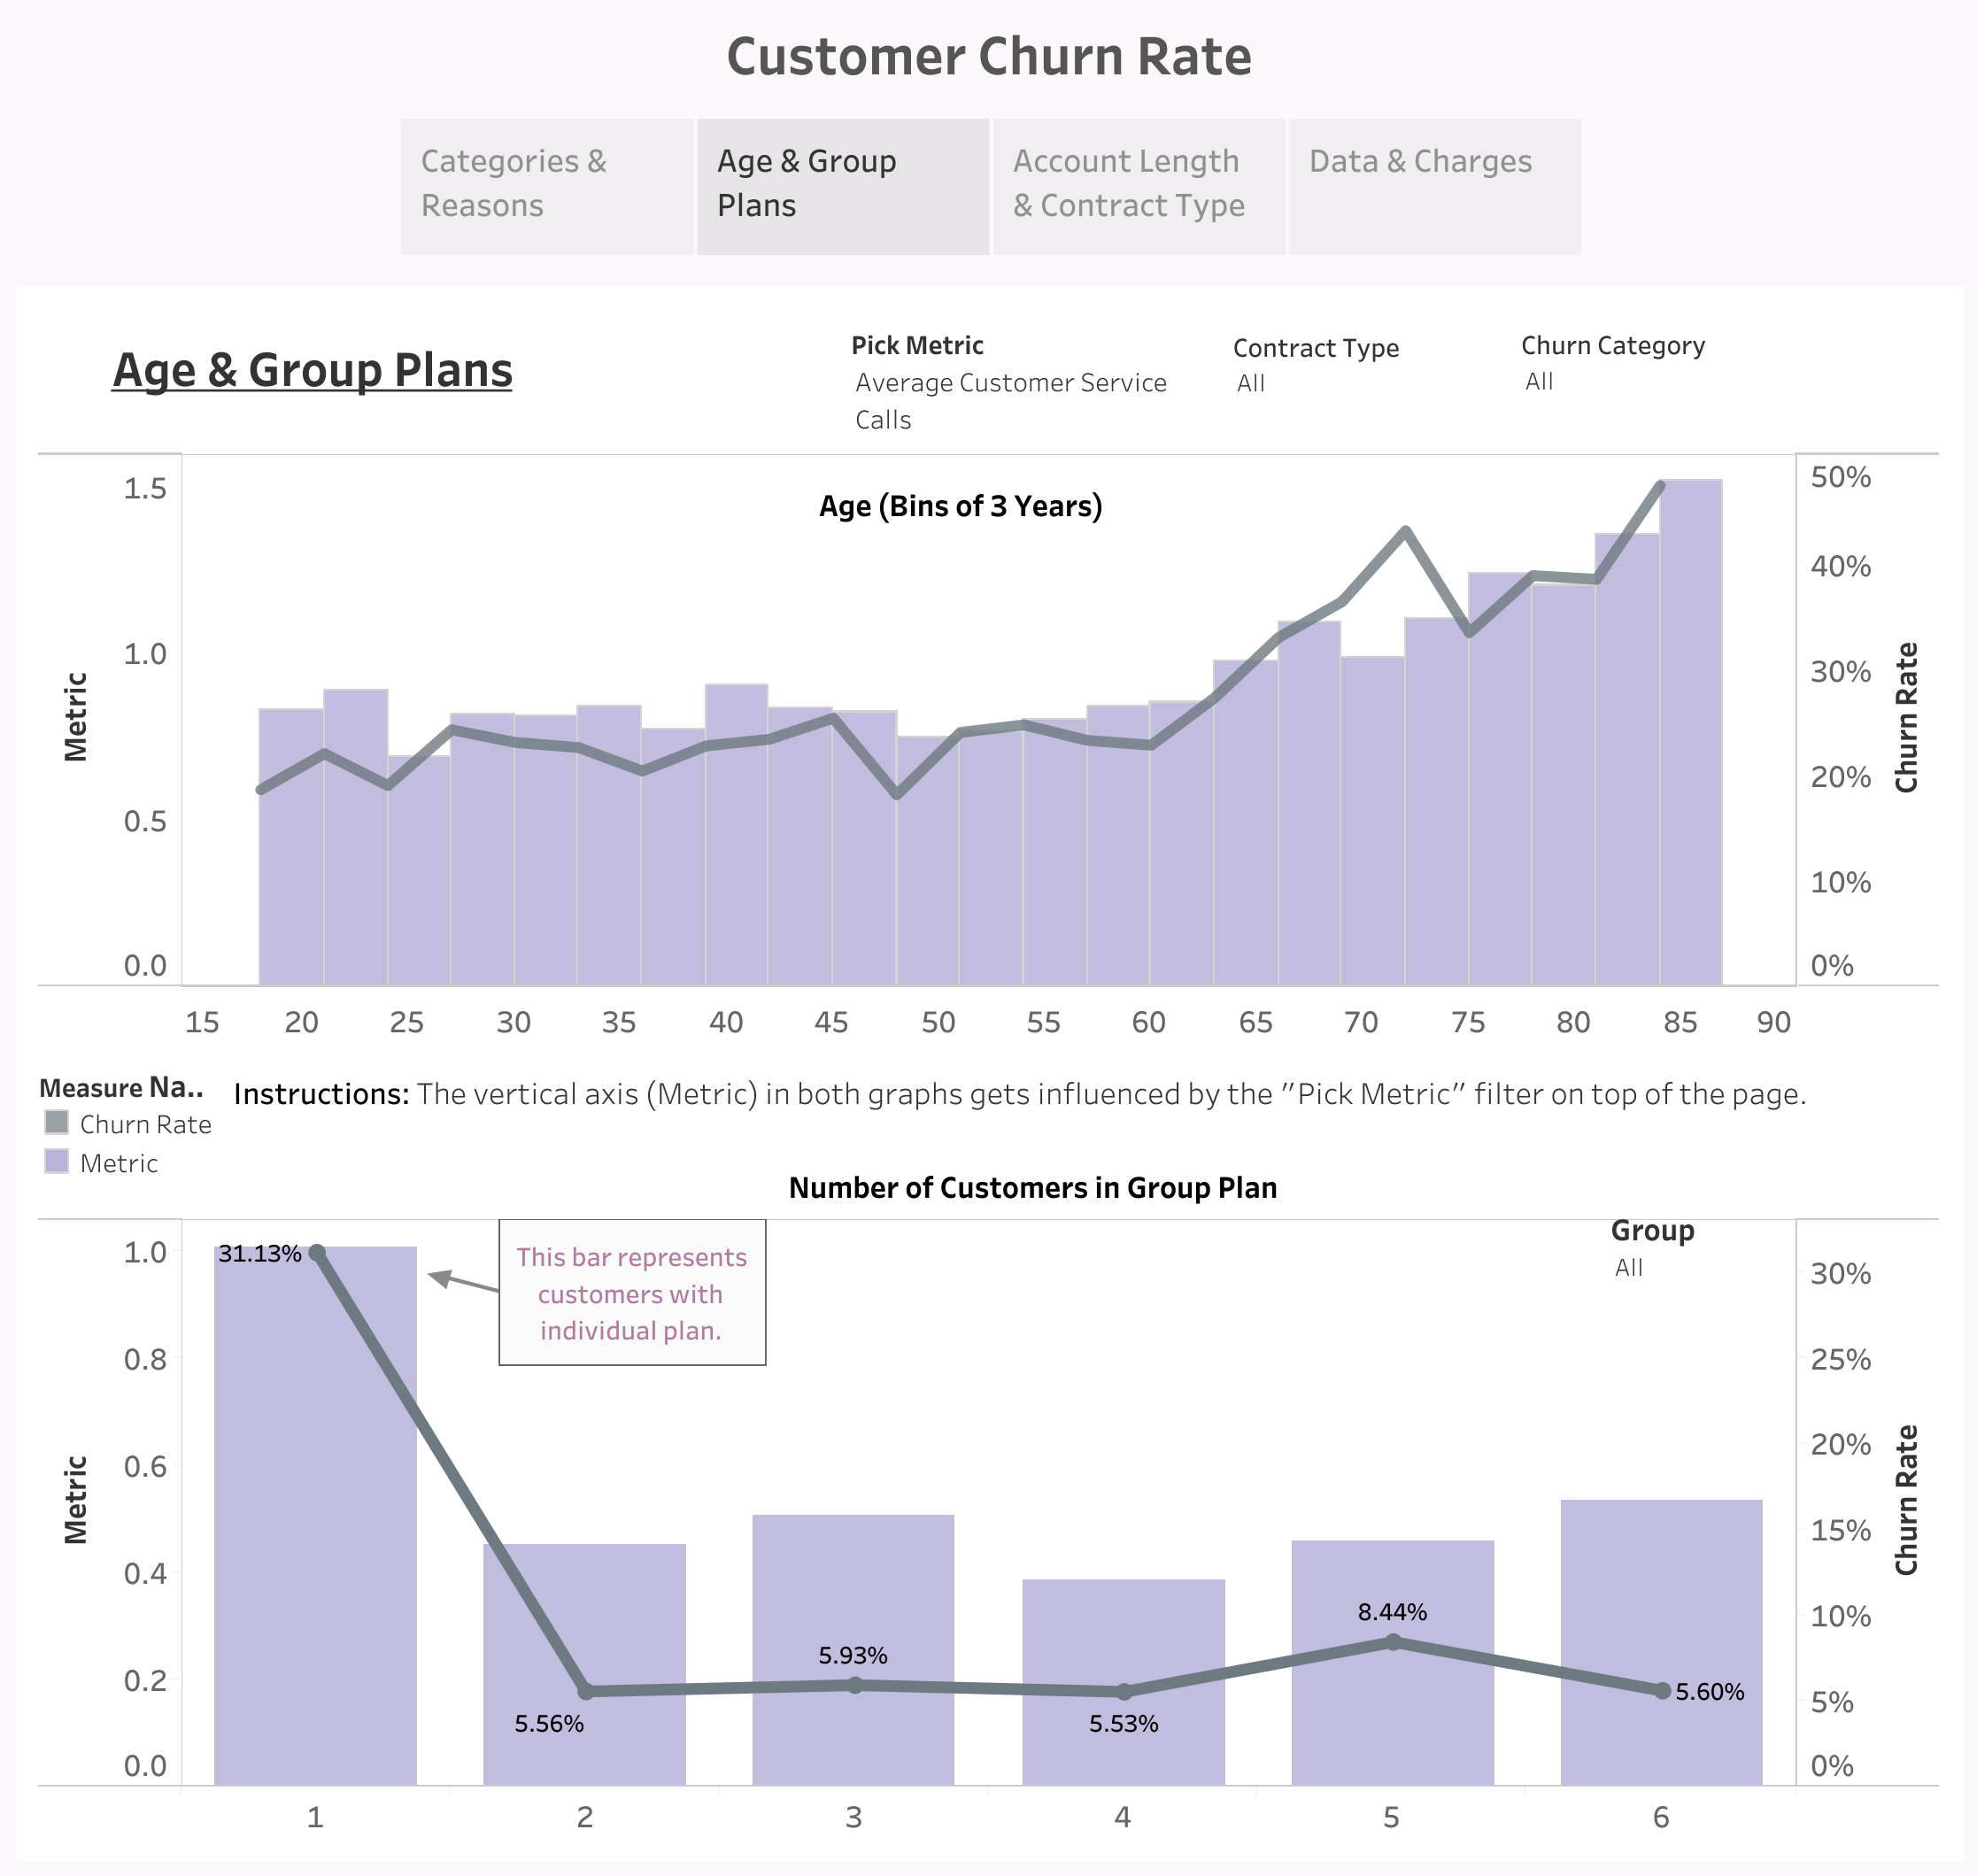

Layout of this report page (visuals, bound fields, positions):
{"tool":"tableau","page":{"name":"Age-Group","canvas":[1000,1000],"units":"permille","ordinal":1},"visuals":[{"type":"text","box":[46.9,0,317.7,101.7]},{"type":"filter","title":"Age bins_Metrics","param":"[federated.0ec1ye81p13lyy1en51lk16zfsb8].[none:Churn Category:nk]","box":[773.3,23.1,120.1,65.9]},{"type":"filter","title":"Age bins_Metrics","param":"[federated.0ec1ye81p13lyy1en51lk16zfsb8].[none:Contract Type:nk]","box":[625.4,24.3,119.4,60.1]},{"type":"parameter","param":"[Parameters].[Parameter 2]","box":[429.3,26.6,169.9,75.1]},{"type":"worksheet","title":"Age bins_Metrics","mark":"Automatic","rows":["Calculation_6796917050784268293","Calculation_6796917050756022275"],"cols":["Age (bin)"],"box":[5.6,100.6,988.7,386.1]},{"type":"text","box":[395.2,113.3,181.2,48.6]},{"type":"text","box":[108.7,483.2,833,56.6]},{"type":"legend","title":"Age bins_Metrics","param":"[federated.0ec1ye81p13lyy1en51lk16zfsb8].[:Measure Names]","box":[11.4,491.3,95.2,114.5]},{"type":"text","box":[364.6,548,315.6,45.1]},{"type":"filter","title":"Groups_Metrics","param":"[federated.0ec1ye81p13lyy1en51lk16zfsb8].[none:Group:nk]","box":[818.8,583.8,94.5,77.5]},{"type":"worksheet","title":"Groups_Metrics","mark":"Automatic","rows":["Calculation_6796917050784268293","Calculation_6796917050756022275"],"cols":["Number of Customers in Group (bin)"],"box":[5.6,587.3,988.7,403.5]}]}

Visuals, with their boxes on the dashboard's canvas, which has no fixed pixel size, in thousandths of its width and height (x1, y1, x2, y2). These are canvas units, not pixel positions in the 1977x1876 screenshot, which may show the page scaled, cropped or inside an application window:
text: [x1=47, y1=0, x2=365, y2=102]
"Age bins_Metrics" filter: [x1=773, y1=23, x2=893, y2=89]
"Age bins_Metrics" filter: [x1=625, y1=24, x2=745, y2=84]
parameter: [x1=429, y1=27, x2=599, y2=102]
"Age bins_Metrics" worksheet: [x1=6, y1=101, x2=994, y2=487]
text: [x1=395, y1=113, x2=576, y2=162]
text: [x1=109, y1=483, x2=942, y2=540]
"Age bins_Metrics" legend: [x1=11, y1=491, x2=107, y2=606]
text: [x1=365, y1=548, x2=680, y2=593]
"Groups_Metrics" filter: [x1=819, y1=584, x2=913, y2=661]
"Groups_Metrics" worksheet: [x1=6, y1=587, x2=994, y2=991]
